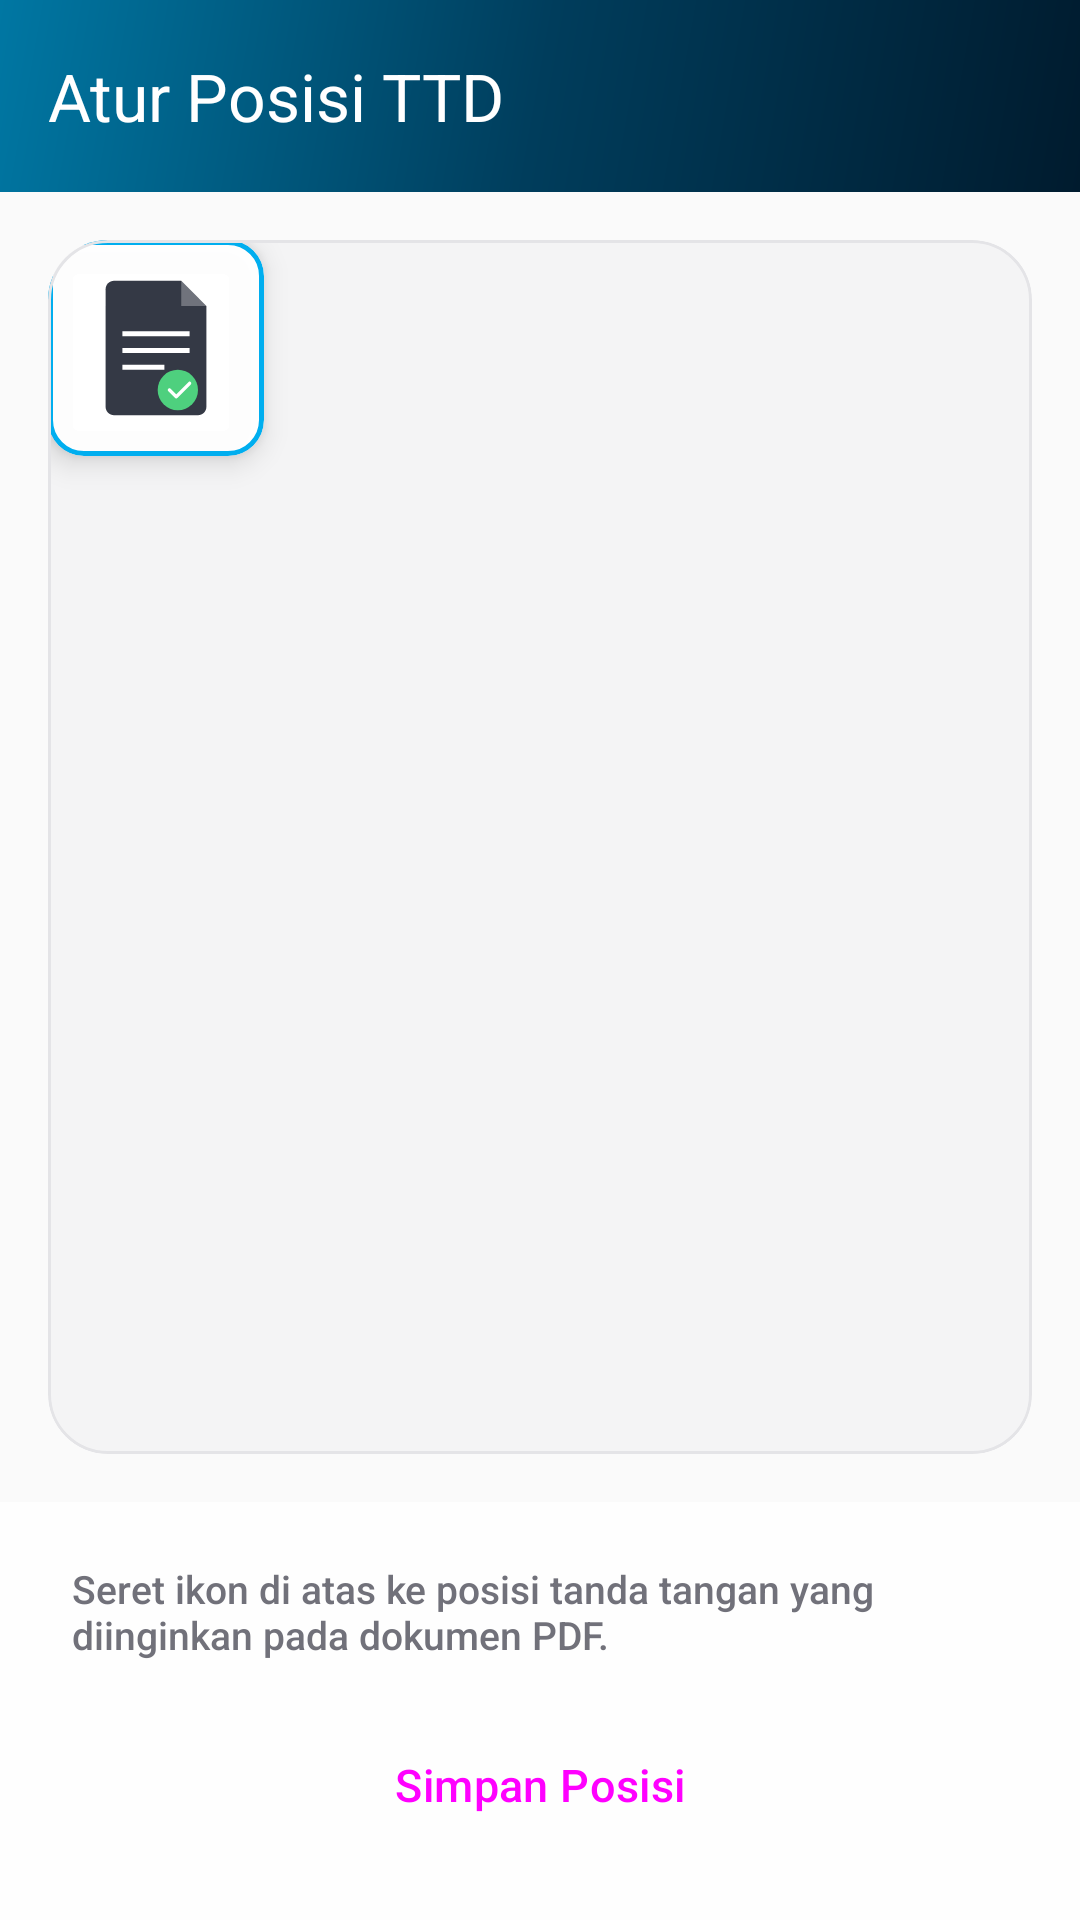

Screen size 1080px×1920px. Icon name, then its box in pixels as (left=x1, top=y1, right=x2, bottom=y2):
pens doc: (left=48, top=240, right=264, bottom=456)
